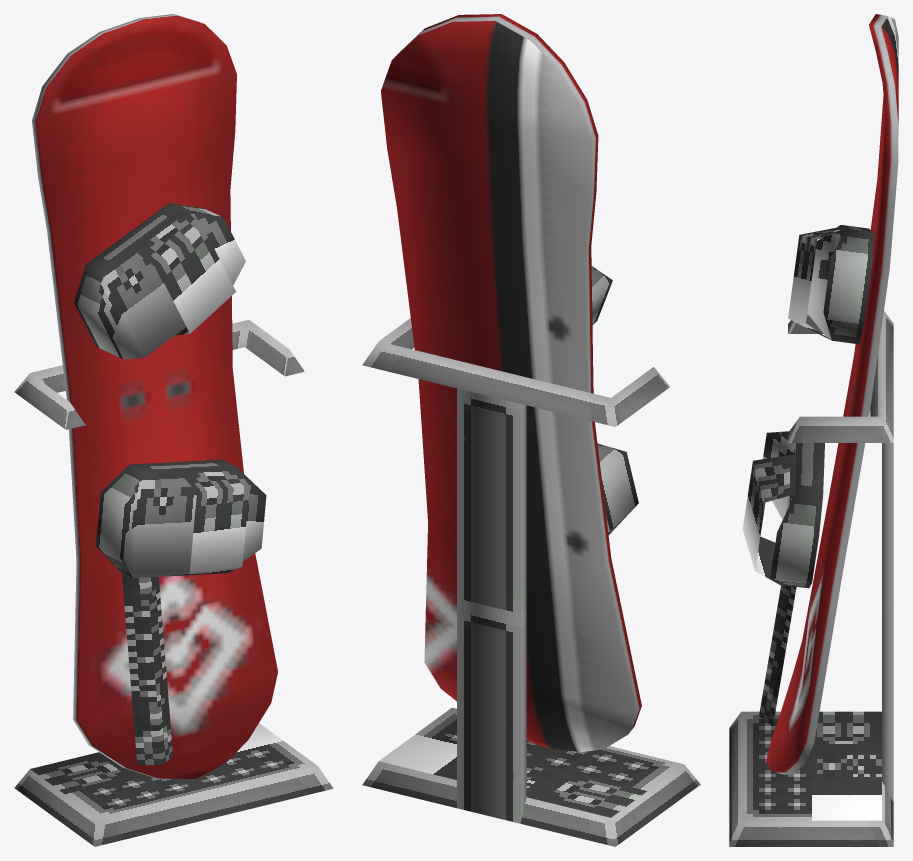
The model's file is rmk_kmk_snowbord.dae.
3 renders of one model, left to right at view 1: azimuth 30°, elevation 25°; view 2: azimuth 150°, elevation 25°; view 3: azimuth 270°, elevation 25°, orthographic. The views are drawn at different scales.
Parts seen in each view (by area): view 1: rmk_kmk_snowbord; view 2: rmk_kmk_snowbord; view 3: rmk_kmk_snowbord.
Part boxes in pixels (left/top/right/bottom): rmk_kmk_snowbord: left=14, top=14, right=333, bottom=846; rmk_kmk_snowbord: left=362, top=14, right=700, bottom=846; rmk_kmk_snowbord: left=729, top=14, right=898, bottom=846.
Size of the model in its own units: 19.2 by 57.39 by 11.53.
2 materials, 2 textured.
